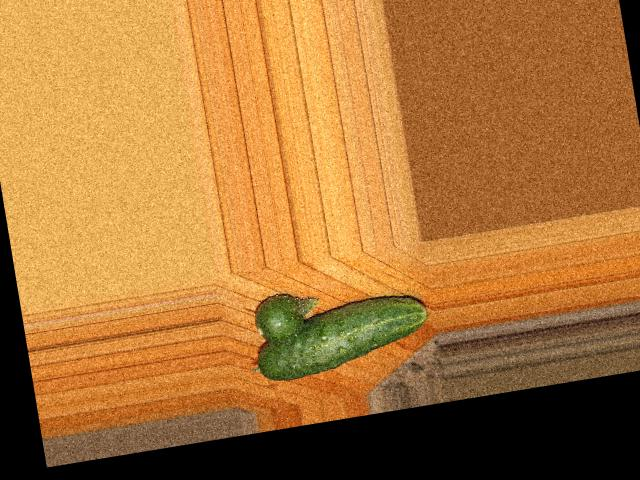cucumber: (249, 289, 435, 384)
